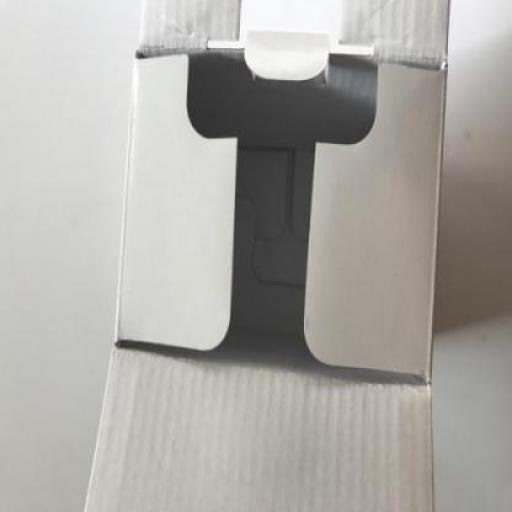cardboard: (82, 0, 448, 511)
